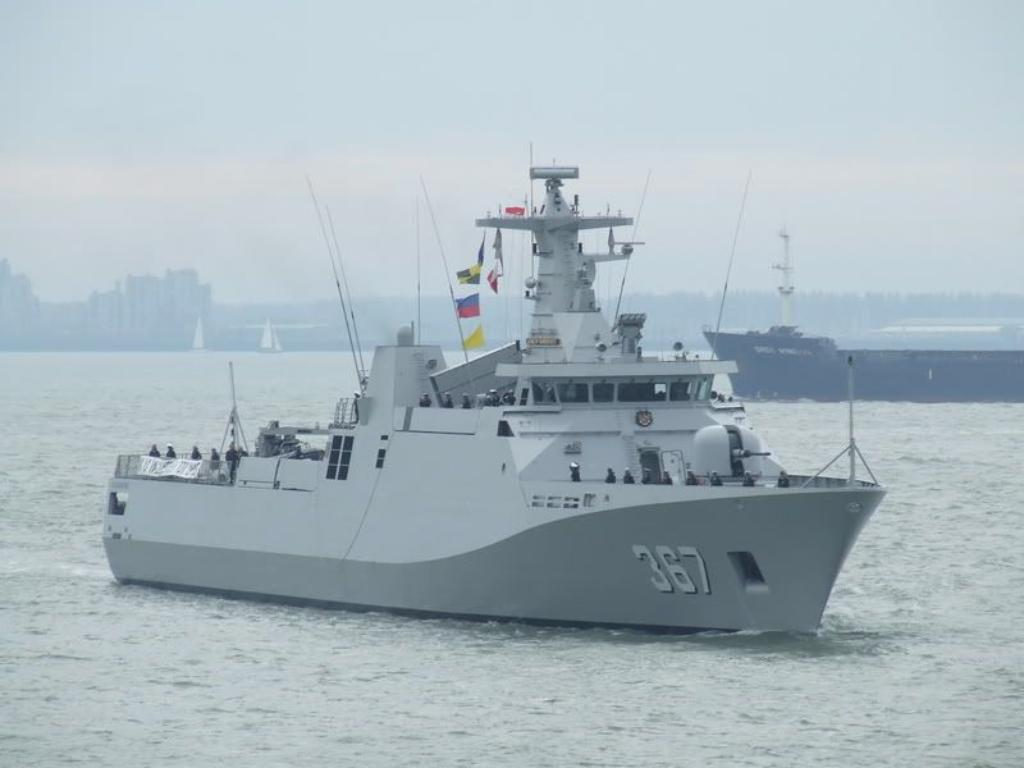Warship: (102, 162, 886, 634)
